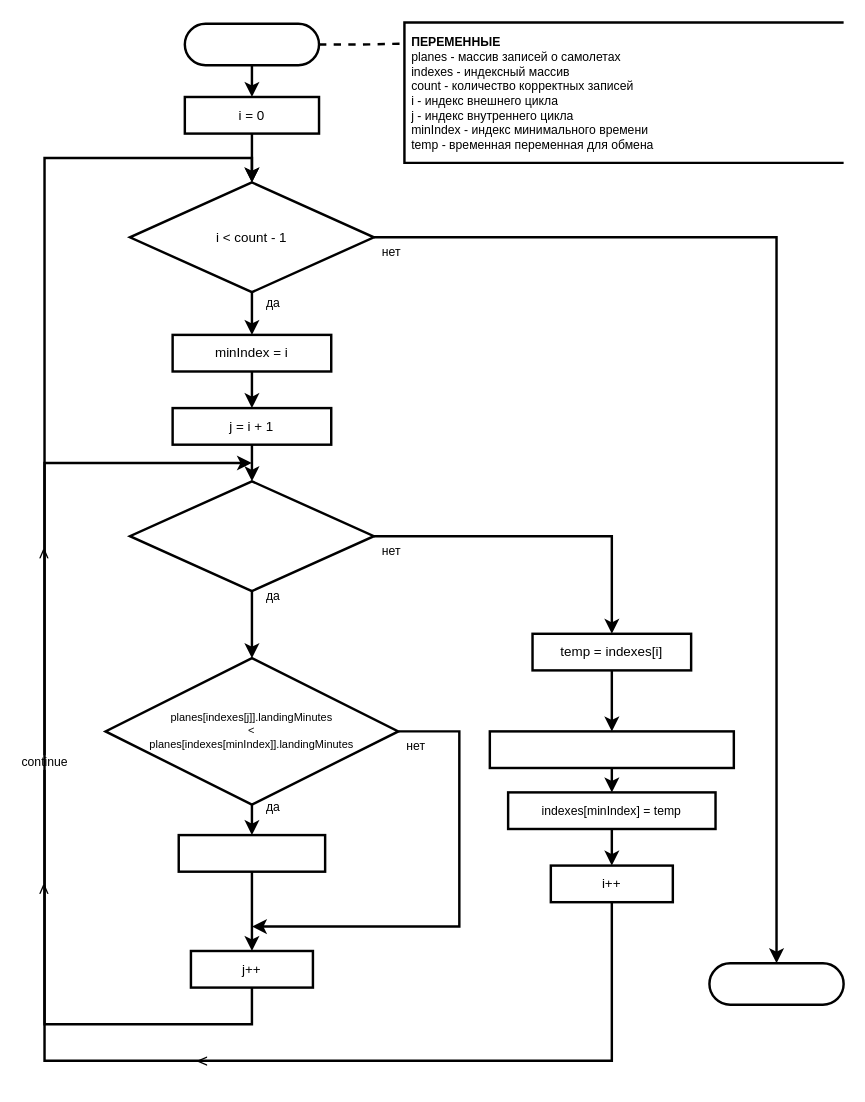
Some shapes in this 865 by 1102 pixel diagram are drawn without their labels. The shapes that lost their labels are listed below. From the top down, each one's centre as x and y in pixels, then its label:
At point (251, 44): "начало".
At point (251, 535): "j < count".
At point (611, 749): "indexes[i] = indexes[minIndex]".
At point (251, 852): "minIndex = j".
At point (776, 983): "конец".
